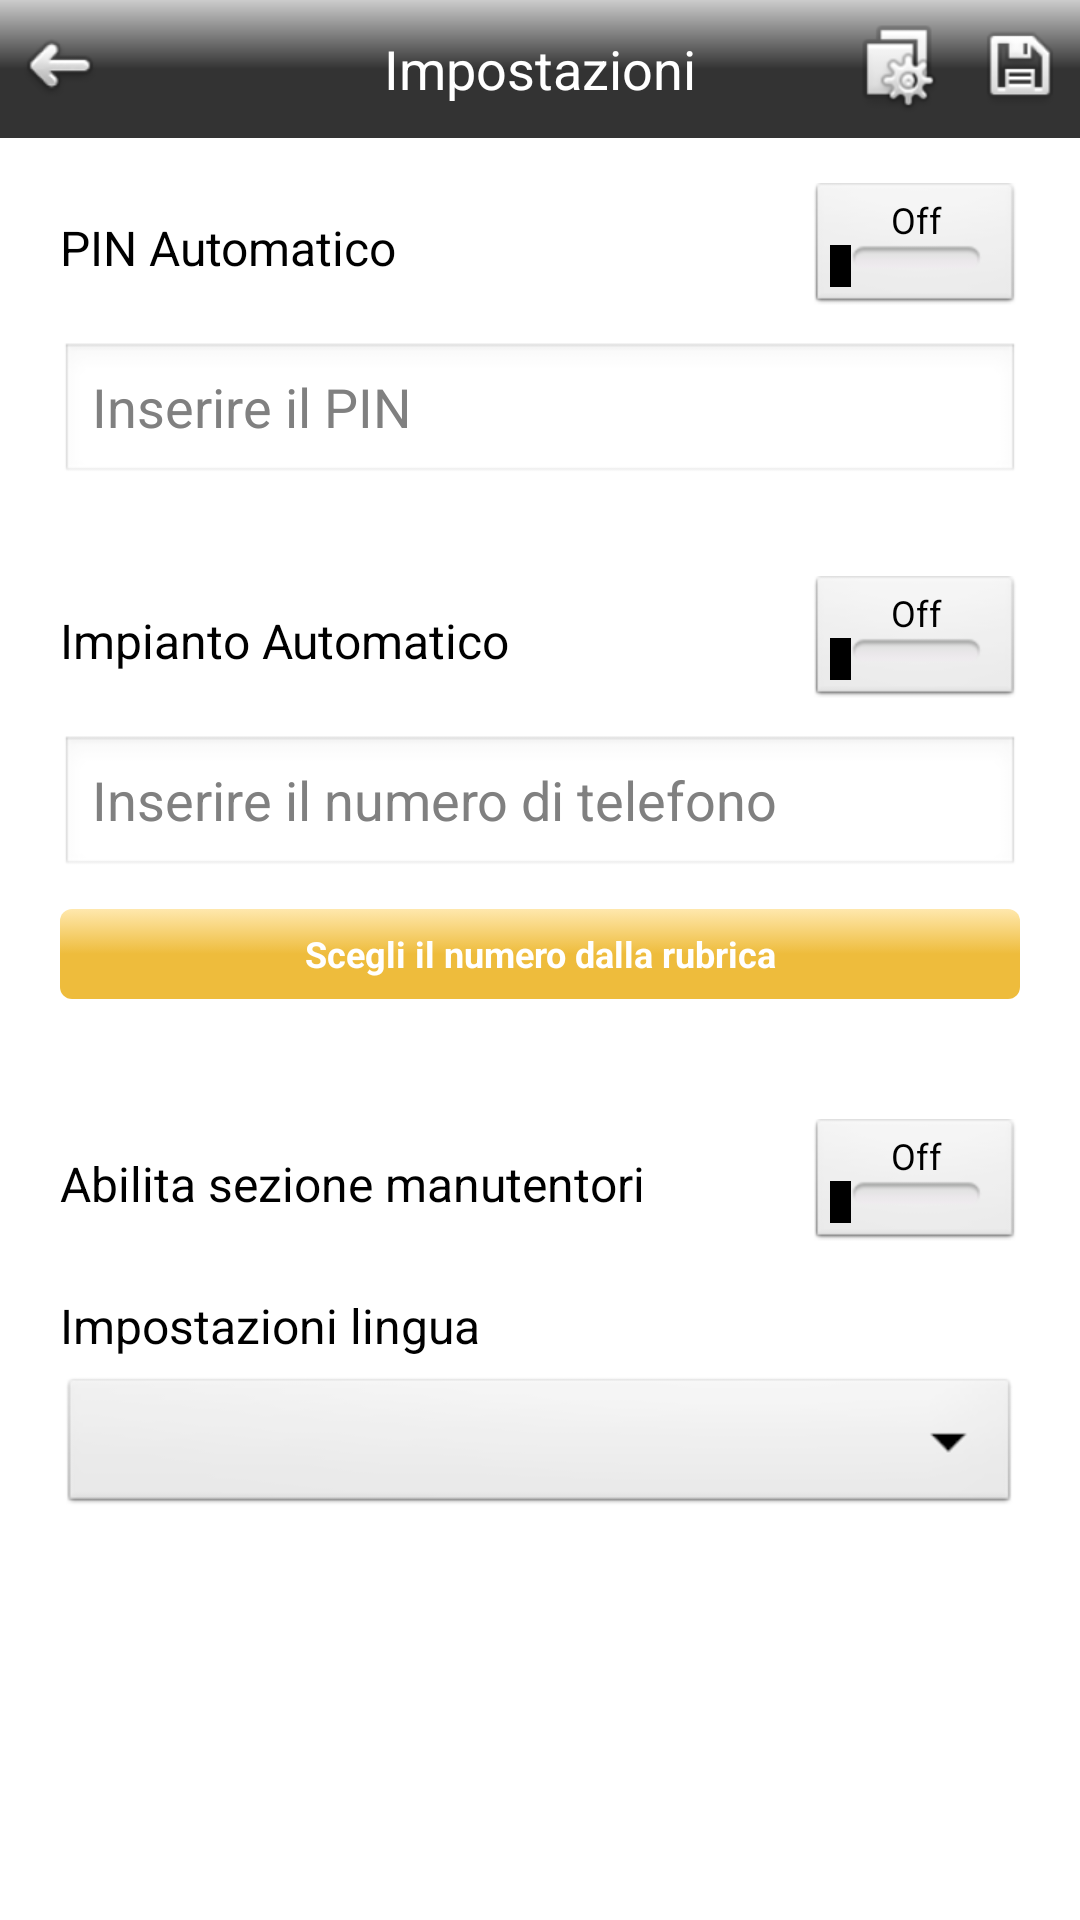

Named icons in this screenshot (1080 x 1920) and their centers, point (x, y):
edit functions: point (900, 69)
Indietro: point (60, 69)
Salva: point (1020, 69)
